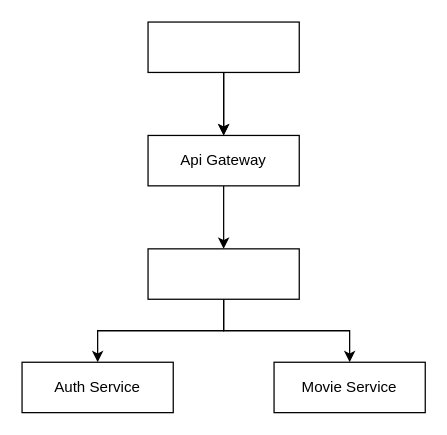
This 447x435 diagram has some shape labels left out. Here are the shapes that lost their labels. From the top down, the centre of each, then its label:
the point at 223,46: Client (Frontend)
the point at 223,273: Naming Server
